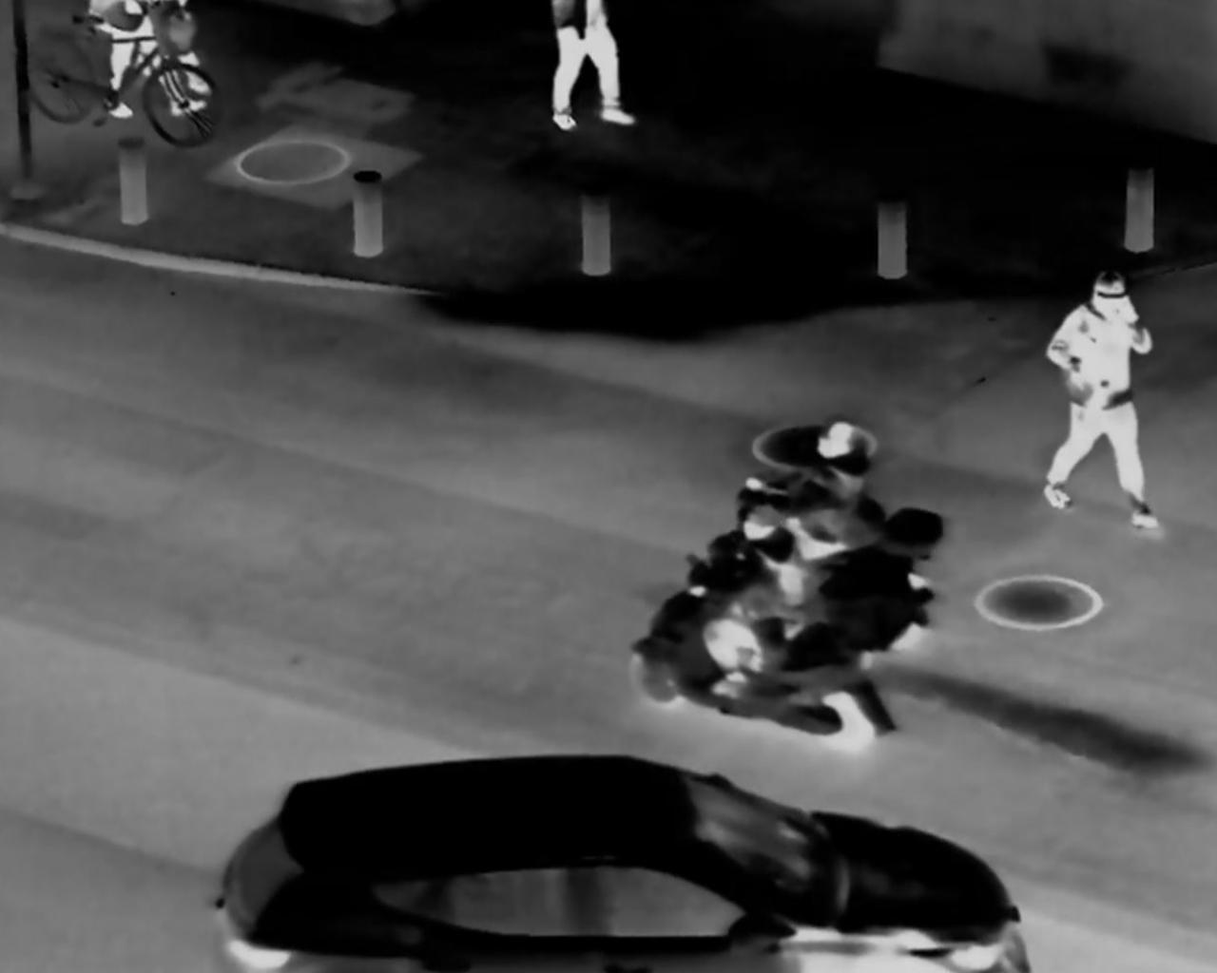person: (1043, 265, 1159, 537), (698, 493, 816, 703), (757, 408, 875, 571), (89, 4, 203, 124)
